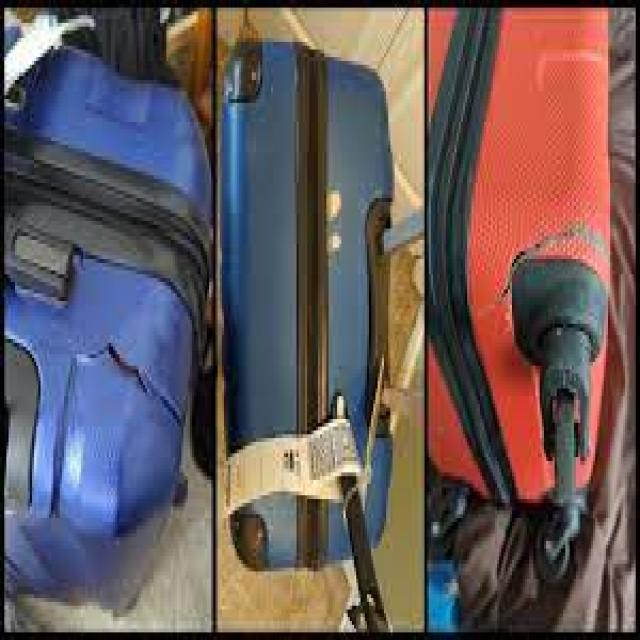Damage-bag: (480, 221, 609, 312), (365, 304, 424, 477), (76, 342, 184, 429)
